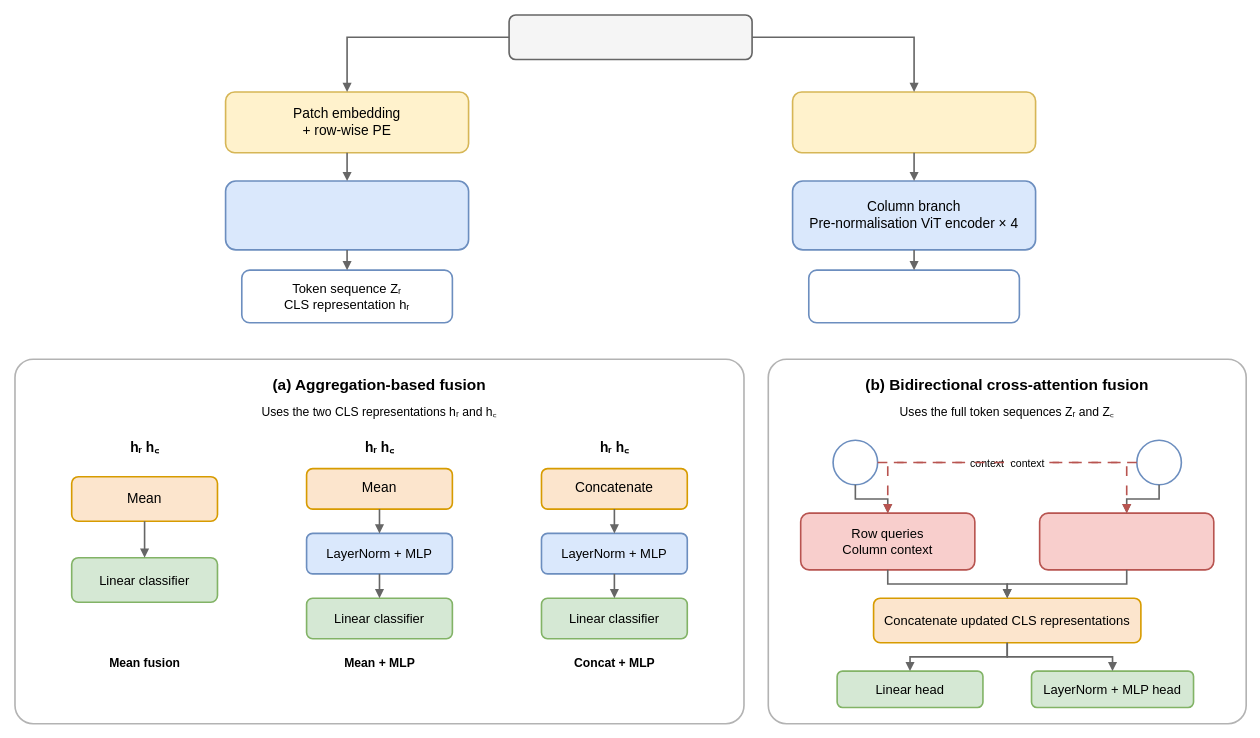
Some shapes in this 1260 by 738 pixel diagram are drawn without their labels. The shapes that lost their labels are listed below. From the top down, each one's centre as x and y in pixels, then its label:
pixel 630 37: Input image x
pixel 913 122: Patch embedding + column-wise PE
pixel 346 215: Row branch Pre-normalisation ViT encoder × 4
pixel 914 296: Token sequence Z꜀ CLS representation h꜀
pixel 855 462: Zᵣ
pixel 1159 462: Z꜀
pixel 1126 541: Column queries Row context
